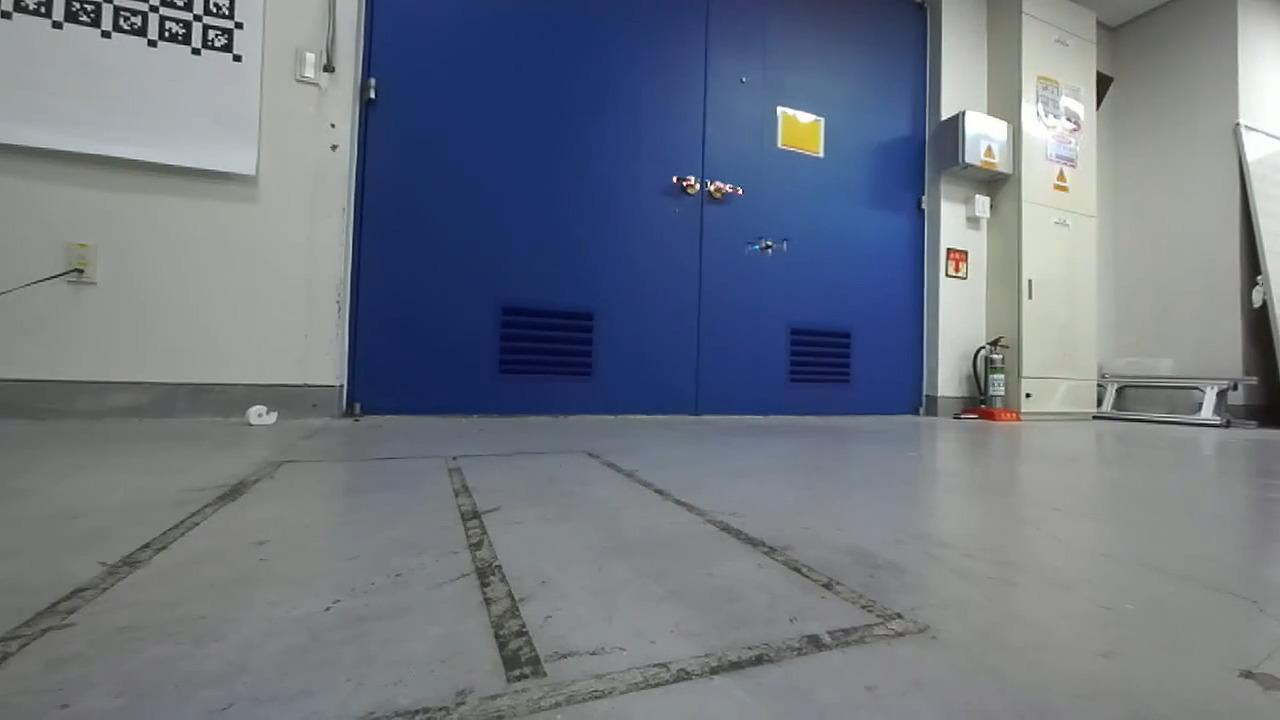crazyflie: (740, 234, 793, 260)
